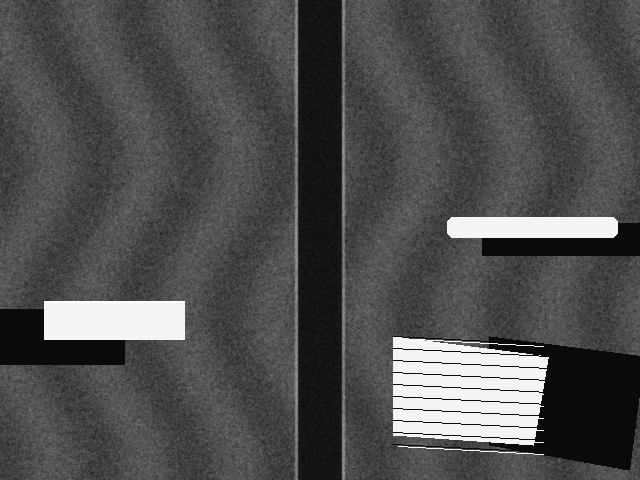Fishing Gear: (393, 336, 548, 445)
Metal Debris: (44, 301, 184, 339)
Wood Debris: (447, 217, 617, 237)
